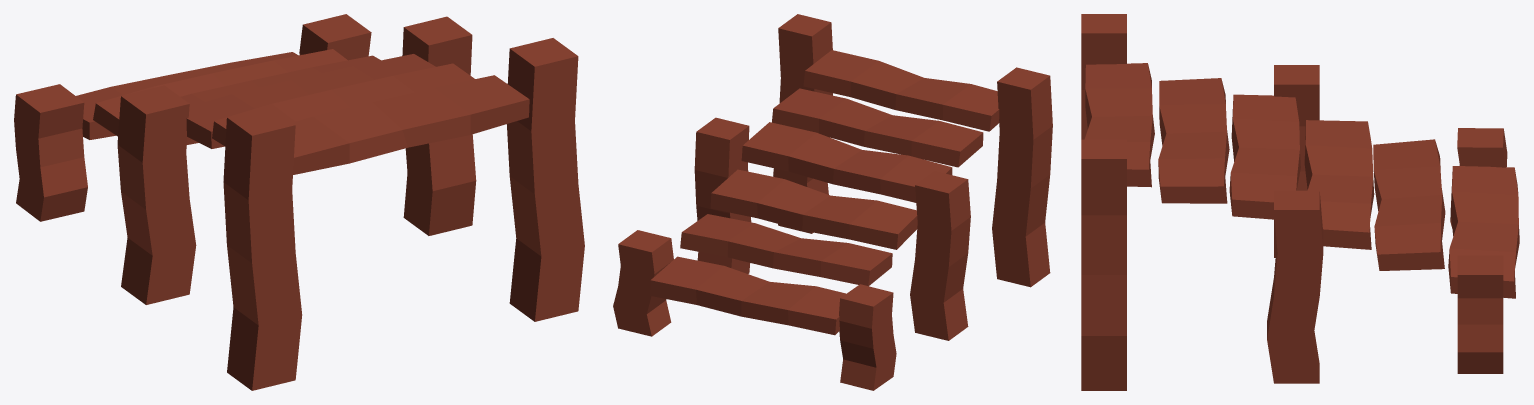
Rendered from woodstairs_1a.fbx.
3 views of the same model, side by side, from view 1: azimuth 30°, elevation 25°; view 2: azimuth 150°, elevation 25°; view 3: azimuth 270°, elevation 25° (orthographic). The views are drawn at different scales.
Parts seen in each view (by area): view 1: woodstairs_1a; view 2: woodstairs_1a; view 3: woodstairs_1a.
Part boxes in pixels (x1,y1,x2,y2): woodstairs_1a: (14, 14, 584, 390); woodstairs_1a: (613, 14, 1052, 390); woodstairs_1a: (1081, 14, 1519, 390).
Size of the model in its own units: 287 by 207 by 355.
